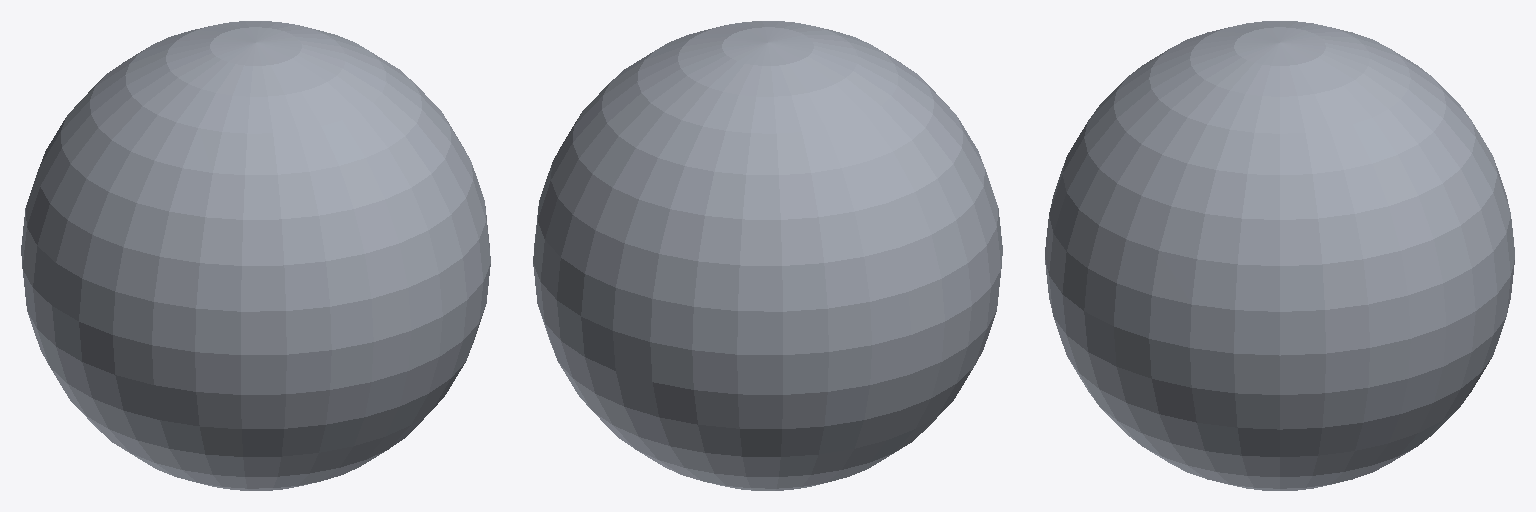
Rendered from bullet.obj.
3 views of the same model, side by side, from view 1: azimuth 30°, elevation 25°; view 2: azimuth 150°, elevation 25°; view 3: azimuth 270°, elevation 25° (orthographic).
Parts seen in each view (by area): view 1: default; view 2: default; view 3: default.
Boxes of the visible parts, <box> form: default: <box>21,21,490,490</box>; default: <box>533,21,1002,490</box>; default: <box>1045,21,1514,490</box>.
Bounding box in the file's own units: 0.9869 × 0.9869 × 0.9869.